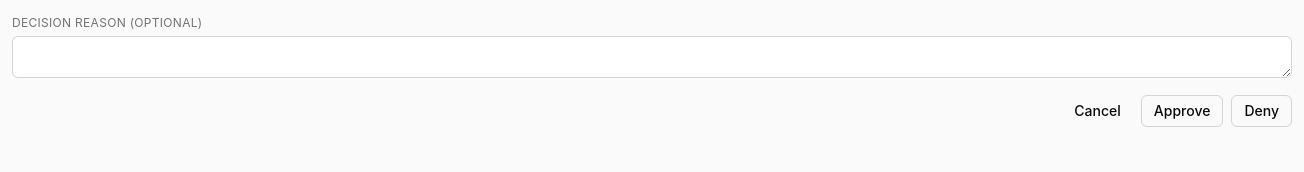
it: DecisionPanel — failure modes leave the item (onResolved not called) › F1: scope_amendment 409 amendment_already_decided surfaces the error, no resolve
Click the button "Approve": (1182, 111) [1141,95,1223,127]
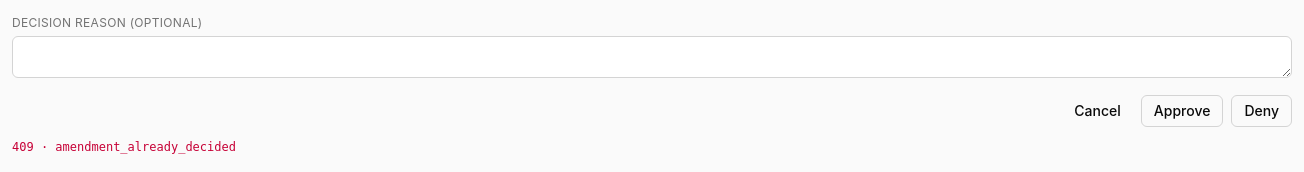
Expected: the message reads "409 · amendment_already_decided", [12,140,236,154]
